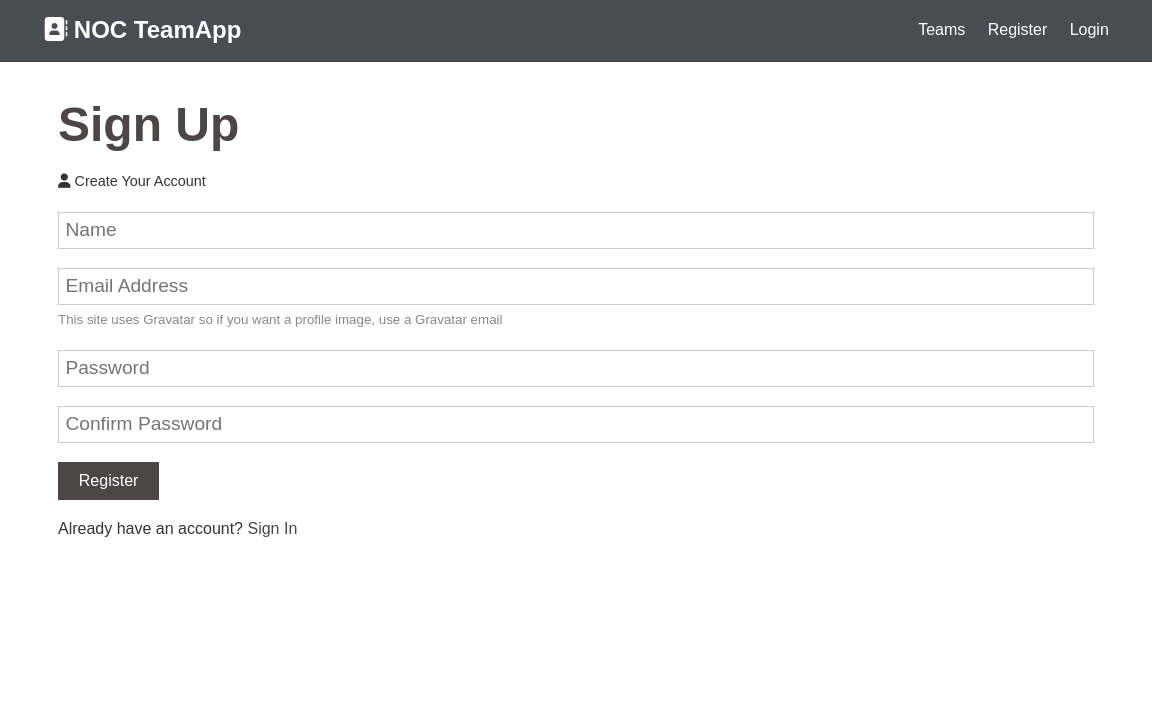
Tests siging up a new user › Test signup with blank passwords
Type "Dawit" into the field named "name".
click(576, 231); type("Dawit")  # box x1=58 y1=212 x2=1094 y2=249
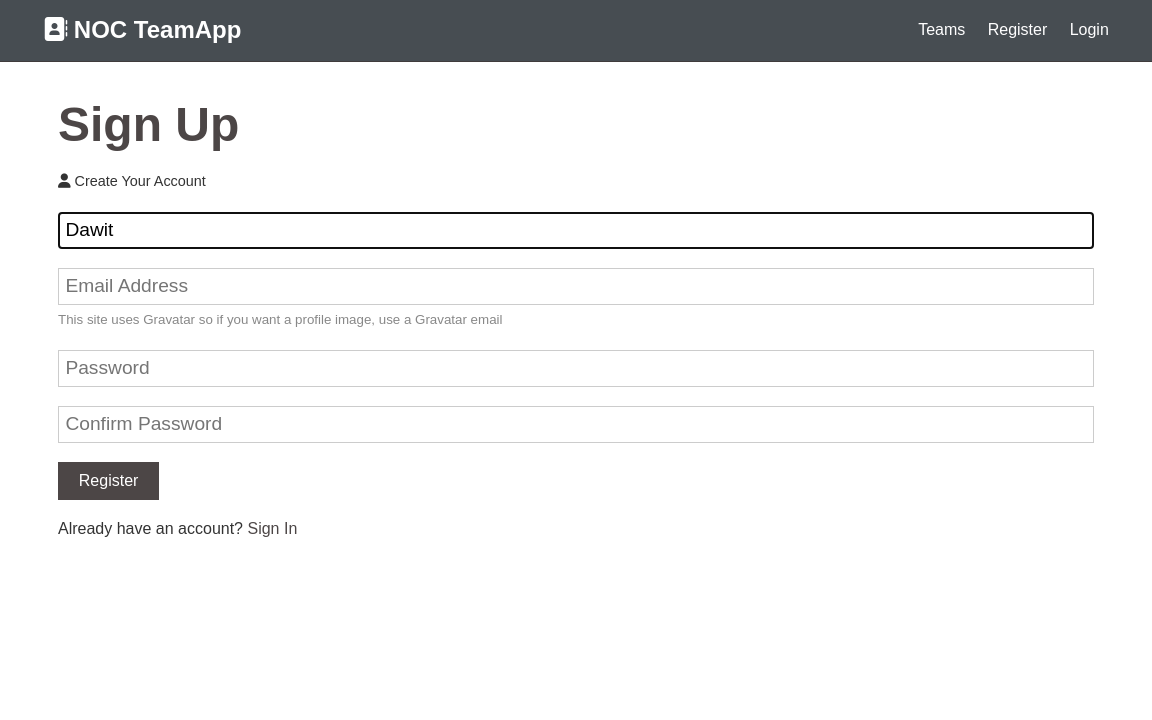
Type "Dawit@noc.com" into the field named "email".
click(576, 287); type("Dawit@noc.com")  # box x1=58 y1=268 x2=1094 y2=305
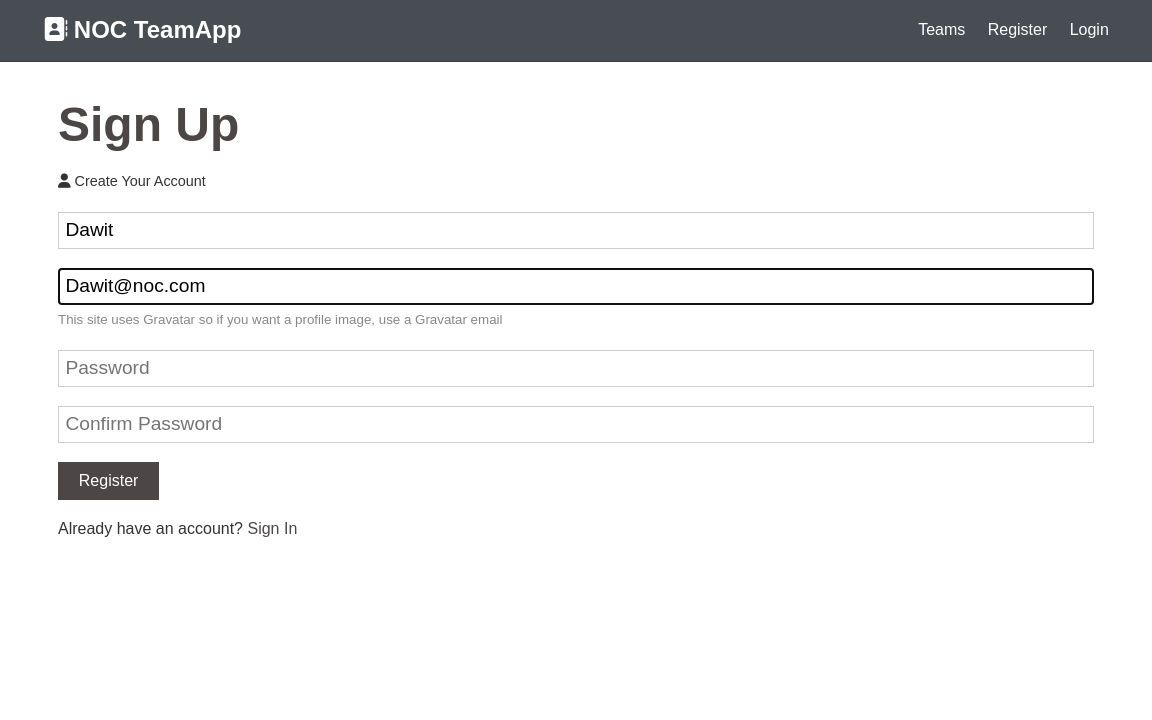
Type "supersecure" into the password field named "password".
click(576, 369); type("supersecure")  # box x1=58 y1=350 x2=1094 y2=387
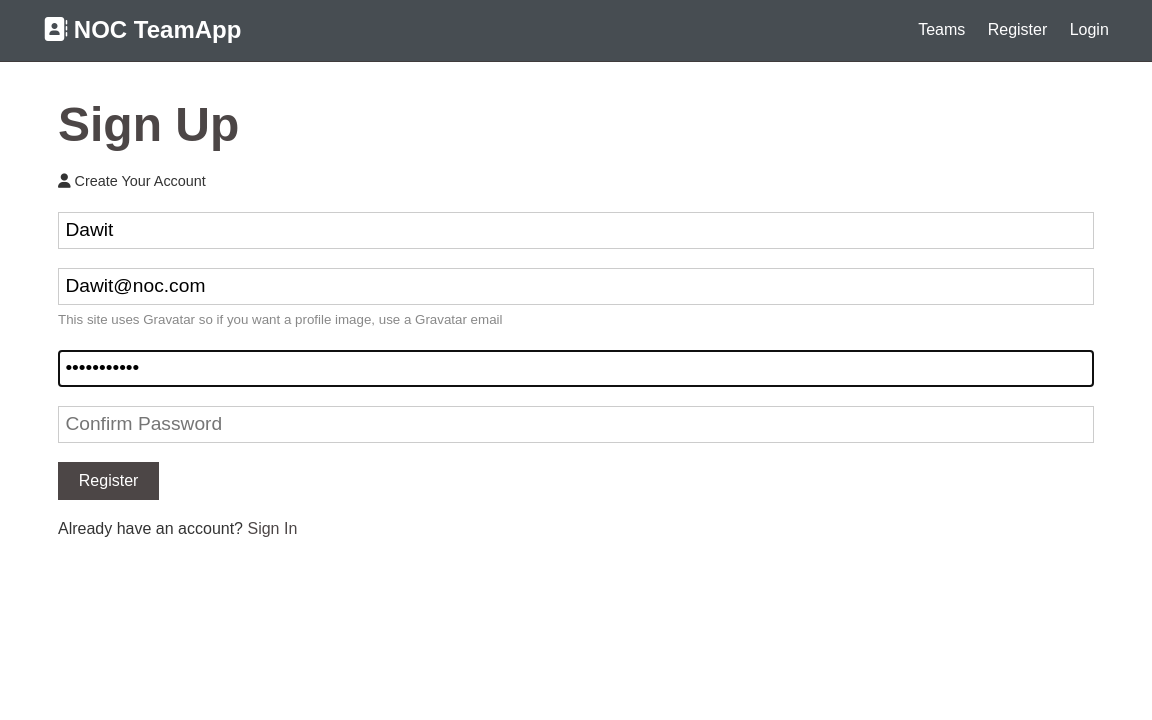
Type "superwrong" into the password field named "confirmPassword".
click(576, 425); type("superwrong")  # box x1=58 y1=406 x2=1094 y2=443
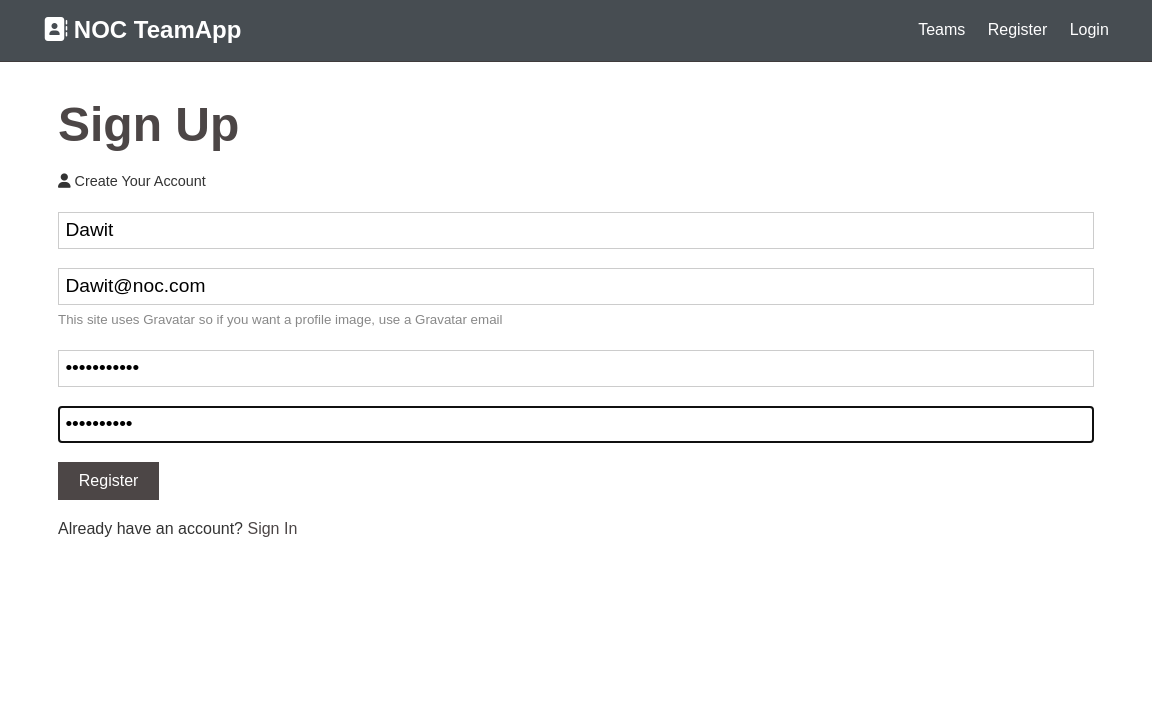
Click the submit button.
click(109, 481)  # box x1=58 y1=462 x2=159 y2=500
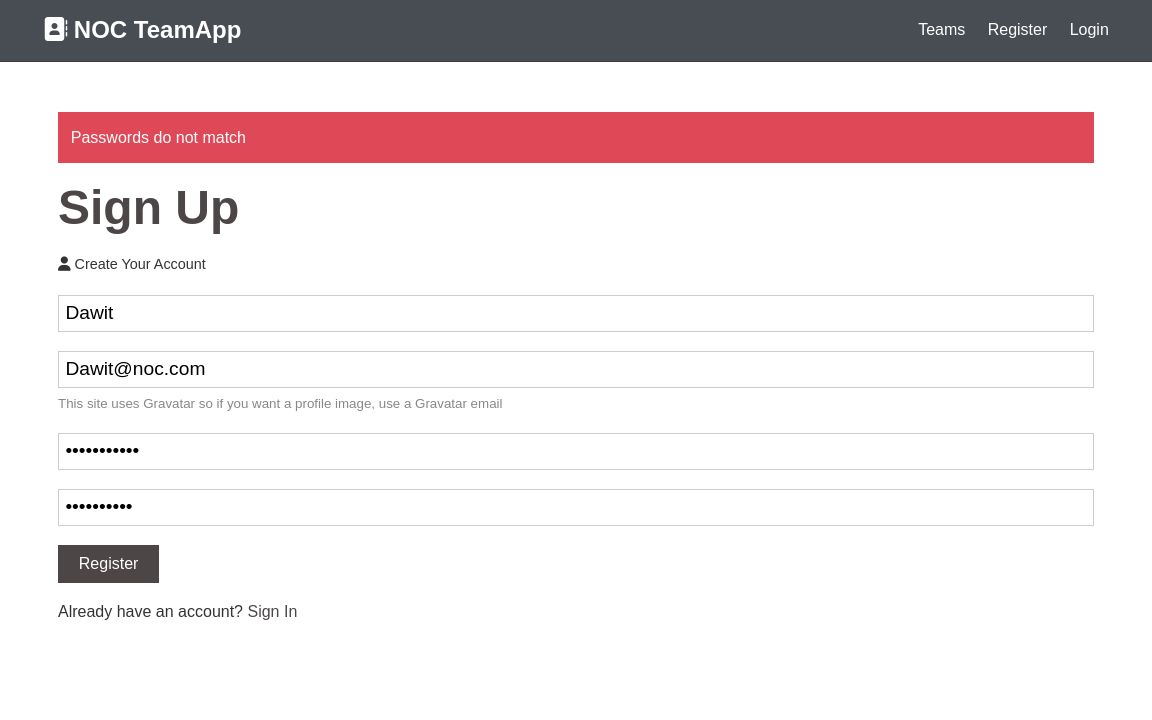
Check: the text "Passwords do not match" is shown, box x1=58 y1=112 x2=1094 y2=163
